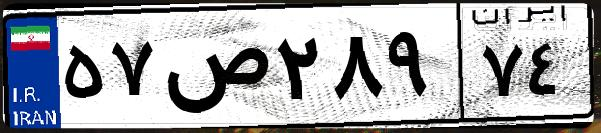2: (270, 28, 330, 110)
4: (525, 38, 570, 115)
5: (57, 26, 110, 100)
7: (475, 38, 525, 113), (110, 28, 158, 98)
8: (330, 28, 385, 110)
9: (385, 28, 445, 110)
ص: (158, 20, 270, 120)
